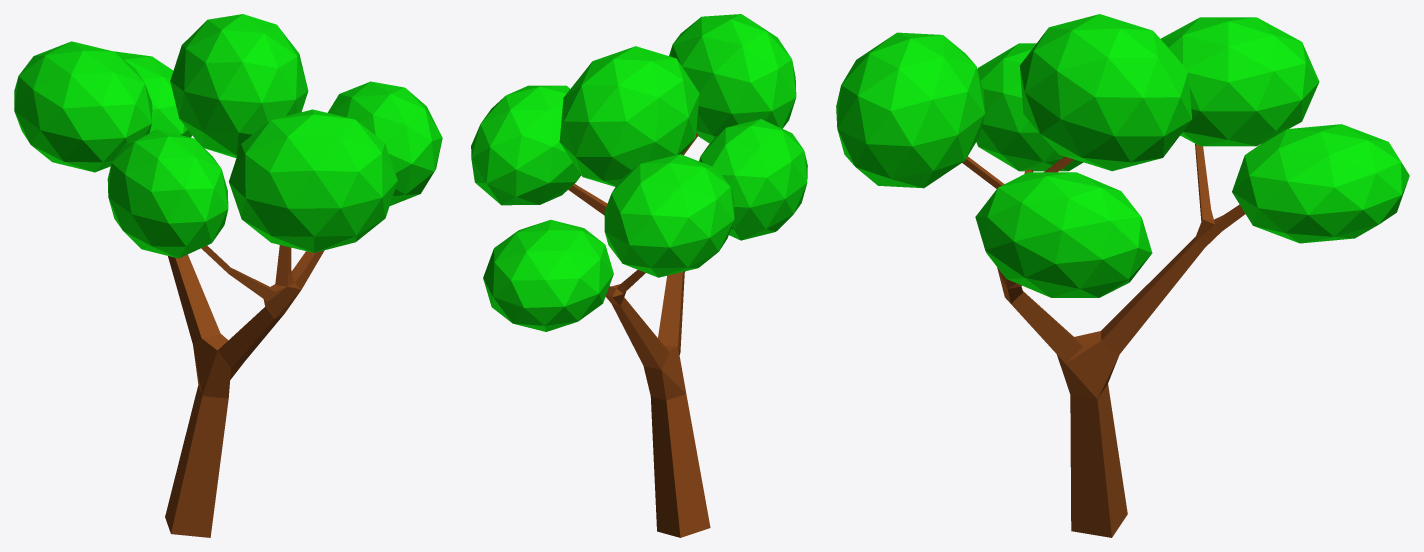
The model's file is LargeTree.fbx.
3 views of the same model, side by side, from view 1: azimuth 30°, elevation 25°; view 2: azimuth 150°, elevation 25°; view 3: azimuth 270°, elevation 25° (orthographic). The views are drawn at different scales.
Visible parts, largest first — view 1: Icosphere.006, Cube, Icosphere.007, Icosphere.008, Icosphere.009, Icosphere.011, Icosphere.010; view 2: Icosphere.007, Icosphere.008, Cube, Icosphere.006, Icosphere.010, Icosphere.011, Icosphere.009; view 3: Icosphere.007, Icosphere.006, Icosphere.011, Cube, Icosphere.010, Icosphere.008, Icosphere.009.
Part boxes in pixels (box(x1,y1,x2,y2)): Icosphere.006: box(229, 109, 397, 252); Cube: box(165, 245, 324, 537); Icosphere.007: box(170, 14, 308, 157); Icosphere.008: box(14, 41, 152, 172); Icosphere.009: box(107, 129, 228, 258); Icosphere.011: box(327, 81, 442, 205); Icosphere.010: box(114, 51, 191, 137); Icosphere.007: box(559, 46, 699, 186); Icosphere.008: box(604, 154, 734, 277); Cube: box(568, 133, 710, 537); Icosphere.006: box(669, 14, 796, 143); Icosphere.010: box(483, 219, 613, 331); Icosphere.011: box(471, 85, 581, 205); Icosphere.009: box(699, 119, 807, 240); Icosphere.007: box(1019, 14, 1192, 171); Icosphere.006: box(836, 32, 984, 188); Icosphere.011: box(975, 172, 1152, 297); Cube: box(962, 143, 1245, 537); Icosphere.010: box(1232, 124, 1409, 243); Icosphere.008: box(1160, 17, 1319, 146); Icosphere.009: box(976, 43, 1083, 171).
Bounding box in the file's own units: 55.62 × 80.25 × 78.48.
